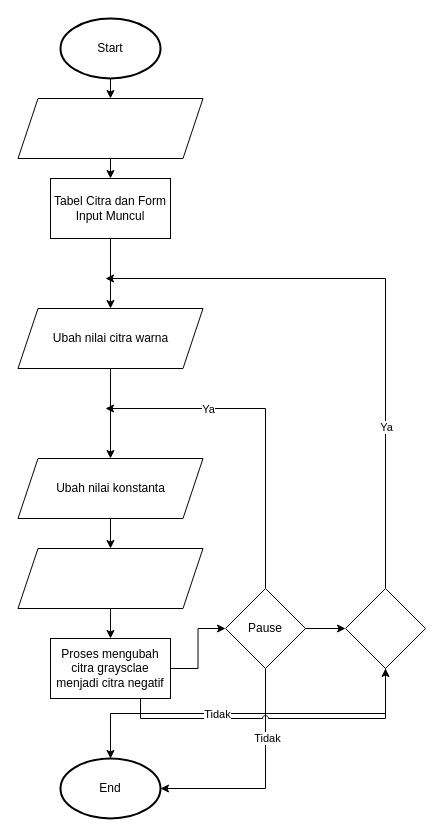
Some shapes in this 443 by 836 pixel diagram are drawn without their labels. Here are the shapes that lost their labels. From the top down, the box of each, then its label:
(17, 98, 203, 158): Pilih 1 dari 3 gambar
(17, 548, 203, 608): Tekan Tombol Play
(344, 588, 426, 668): Stop
